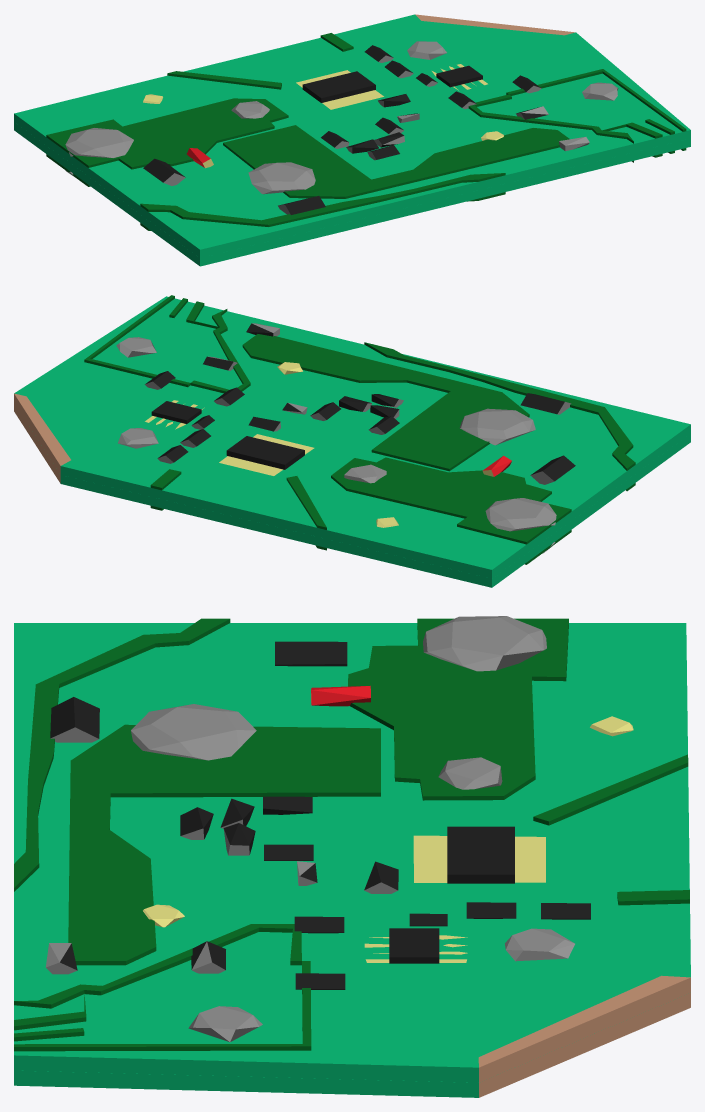
The model's file is carte_elec1.fbx.
3 renders of one model, top to bottom at view 1: azimuth 30°, elevation 25°; view 2: azimuth 150°, elevation 25°; view 3: azimuth 270°, elevation 25°, orthographic. The views are drawn at different scales.
Parts seen in each view (by area): view 1: Cube.003; view 2: Cube.003; view 3: Cube.003.
Part boxes in pixels (bbox=[...]): Cube.003: bbox=[14, 14, 690, 266]; Cube.003: bbox=[14, 295, 690, 587]; Cube.003: bbox=[14, 616, 690, 1097].
Bounding box in the file's own units: 1541 × 121 × 989.
